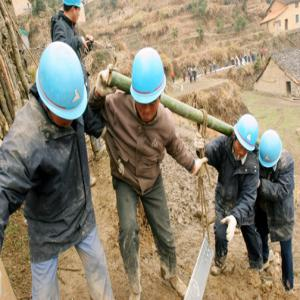blue: (35, 43, 89, 130), (128, 44, 168, 121), (233, 113, 259, 160), (260, 130, 283, 171), (63, 2, 82, 23)
